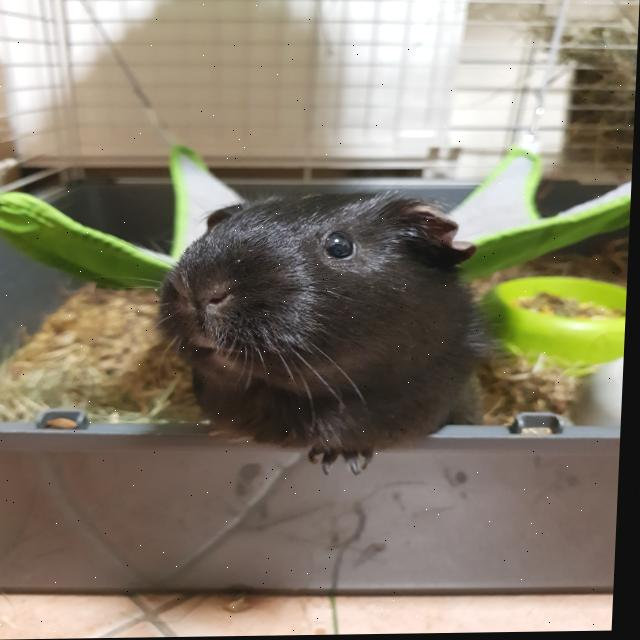guinea pig: (150, 188, 500, 482)
